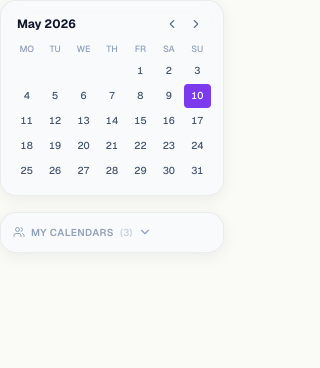
Test case: CalendarLeftRail › My Calendars section › renders one toggle per master when masters + handlers are passed
The image size is (320, 368).
Expected: the element with test id "rail-my-calendars" is shown, [0,212,224,252]
List is collapsed by default — expand to reveal the per-master toggles.
Click the button with test id "rail-my-calendars-toggle".
click(83, 232)  # box [13,224,152,240]
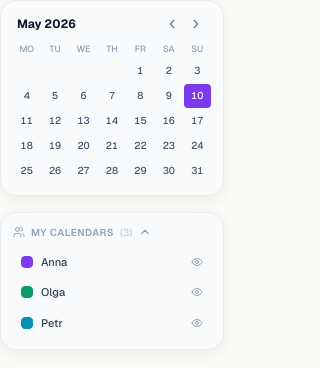
Now the number of buttons with test id "rail-master-toggle" is 3, box [13,248,211,276]; [13,278,211,306]; [13,308,211,337]
